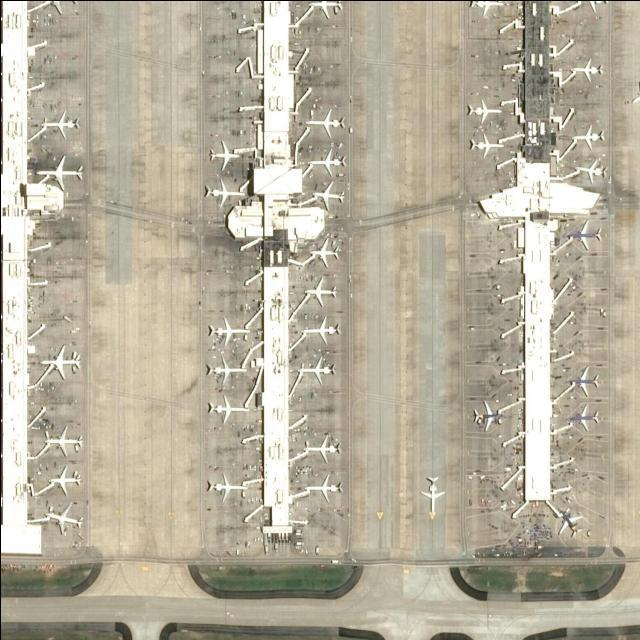Aircraft: (35, 151, 83, 189), (38, 344, 79, 378), (205, 394, 250, 422), (206, 472, 249, 501), (42, 424, 82, 455), (303, 471, 343, 502), (205, 355, 246, 385), (567, 216, 601, 252), (302, 107, 344, 135), (298, 315, 340, 343), (207, 315, 249, 343), (40, 108, 79, 138), (42, 502, 81, 532), (301, 431, 340, 461), (308, 179, 346, 209), (295, 355, 335, 383), (307, 233, 339, 267), (45, 465, 81, 495), (306, 146, 344, 174), (207, 178, 244, 206), (300, 276, 338, 303), (565, 364, 599, 394), (422, 472, 446, 514), (206, 139, 238, 169), (472, 398, 502, 430), (569, 122, 607, 147), (556, 505, 584, 537), (569, 55, 601, 82), (466, 98, 502, 122), (467, 132, 505, 154), (573, 158, 607, 181), (567, 404, 599, 428), (305, 0, 340, 17), (36, 0, 78, 14), (466, 0, 502, 15), (574, 0, 608, 10)
